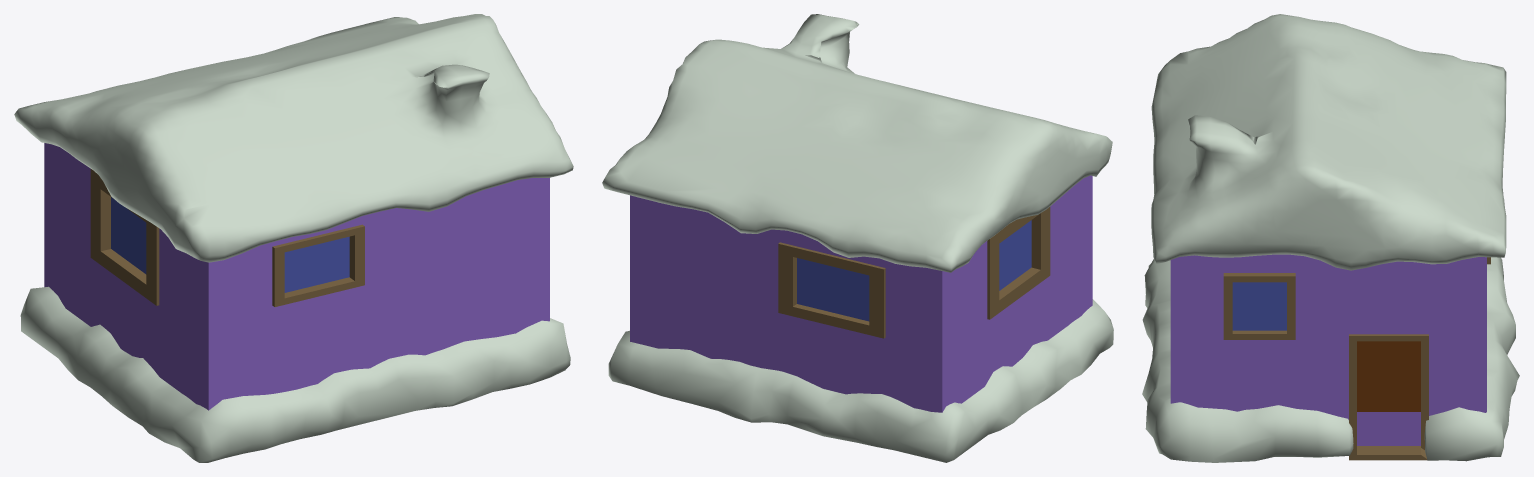
Rendered from HomeSnow-2.fbx.
The picture shows the model from 3 angles, left to right: view 1: azimuth 30°, elevation 25°; view 2: azimuth 150°, elevation 25°; view 3: azimuth 270°, elevation 25°; orthographic projection. The views are drawn at different scales.
Visible parts, largest first — view 1: HomeSnow-2; view 2: HomeSnow-2; view 3: HomeSnow-2.
Boxes of the visible parts, x1,y1,x2,y2 form: HomeSnow-2: [14, 14, 573, 462]; HomeSnow-2: [602, 14, 1113, 462]; HomeSnow-2: [1142, 14, 1519, 462].
Bounding box in the file's own units: 20.27 × 15.06 × 17.62.
